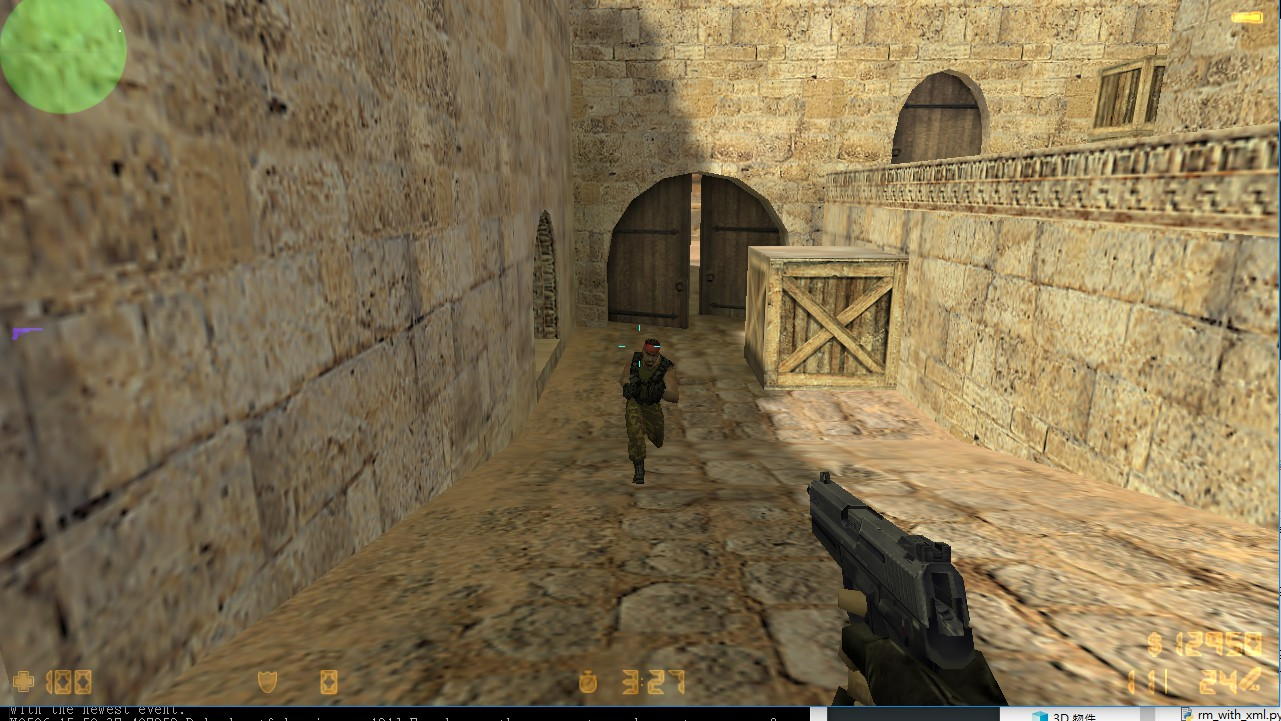person: (619, 338, 674, 497)
